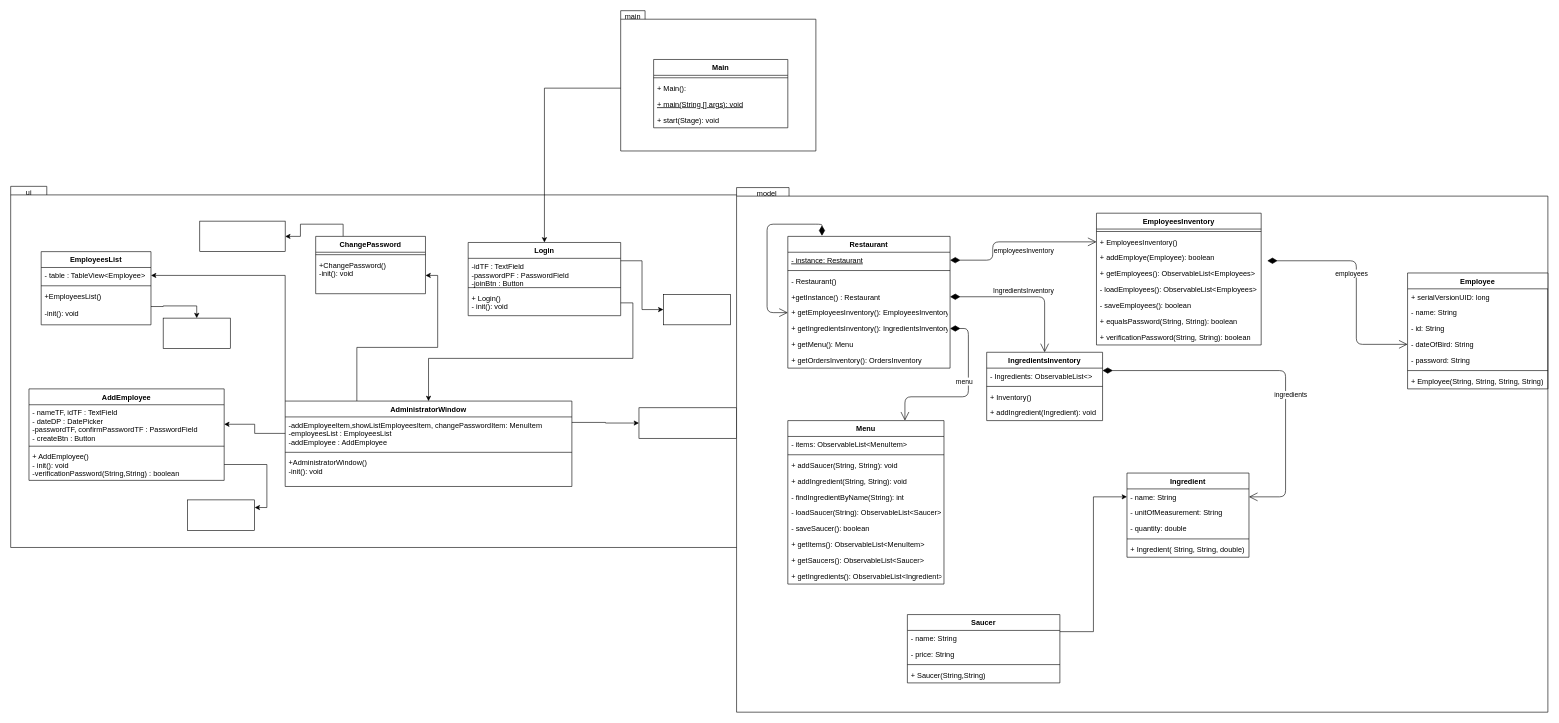
This 1559x723 diagram has some shape labels left out. The shapes that lost their labels are listed below. From the top down, each one's centre as x and y in pixels, then its label:
At (x=242, y=236): "ChangePassword.fxml".
At (x=696, y=309): "Login.fxml".
At (x=196, y=333): "EmployeesList.fxml".
At (x=687, y=422): "AdministratorWindow.fxml".
At (x=221, y=514): "AddEmployee.fxml".
